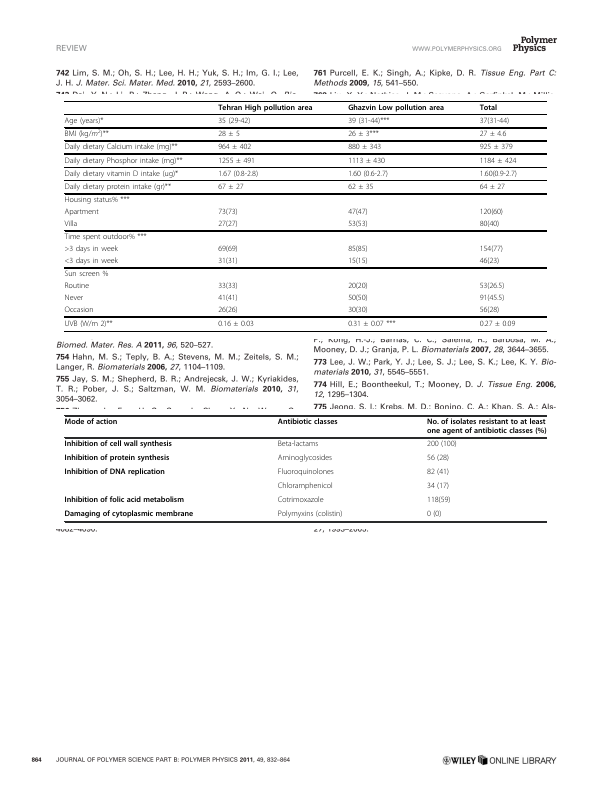borderless: (63, 99, 547, 331), (63, 414, 546, 521)
cell: (426, 418, 547, 436), (64, 510, 194, 520), (64, 496, 185, 506), (64, 440, 173, 450), (64, 156, 184, 165), (64, 182, 172, 192), (64, 454, 170, 464), (64, 143, 179, 152), (64, 169, 179, 178), (64, 468, 166, 478), (347, 103, 445, 112), (217, 103, 313, 112), (64, 233, 147, 242), (64, 195, 130, 205), (277, 510, 343, 520), (277, 468, 335, 478), (277, 454, 333, 464), (277, 482, 333, 492), (277, 418, 339, 427), (64, 256, 119, 266), (63, 128, 110, 139), (64, 245, 119, 254), (64, 418, 118, 427), (277, 496, 324, 506), (64, 319, 113, 328), (347, 319, 396, 328), (347, 116, 390, 126), (277, 440, 319, 450), (63, 116, 104, 126), (64, 270, 109, 279), (217, 169, 259, 178), (347, 169, 389, 178), (64, 207, 100, 217), (217, 156, 256, 165), (347, 156, 386, 165), (479, 169, 518, 178), (479, 156, 517, 165), (217, 319, 255, 328), (217, 116, 251, 126), (479, 319, 516, 328), (347, 129, 380, 139), (217, 143, 252, 152), (347, 143, 382, 152), (479, 143, 514, 152), (479, 116, 510, 126), (426, 440, 457, 450), (479, 129, 507, 139), (217, 182, 244, 192), (347, 182, 374, 192), (479, 182, 506, 192), (64, 306, 94, 315), (479, 207, 504, 217), (426, 496, 451, 506), (217, 129, 241, 139), (426, 454, 450, 464), (426, 468, 450, 478), (426, 482, 450, 492), (64, 282, 90, 291), (479, 282, 505, 291), (479, 294, 505, 303), (479, 245, 504, 254), (217, 207, 239, 217), (217, 219, 239, 229), (217, 256, 239, 266), (347, 207, 368, 217), (347, 219, 368, 229), (479, 219, 500, 229), (347, 256, 368, 266), (479, 256, 500, 266), (217, 245, 239, 254), (217, 282, 239, 291), (217, 294, 239, 303), (217, 306, 239, 315), (347, 245, 368, 254), (347, 282, 368, 291), (347, 294, 368, 303), (347, 306, 368, 315), (479, 306, 500, 315), (64, 294, 84, 303), (479, 103, 498, 112), (426, 510, 442, 520), (64, 219, 78, 229)
